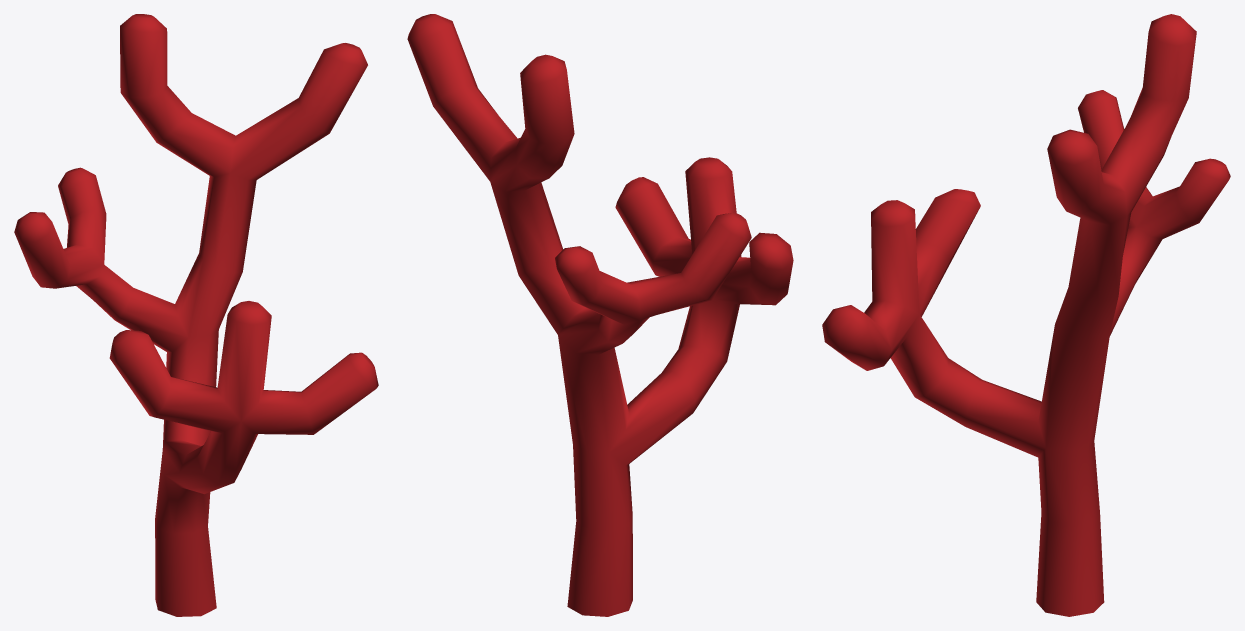
The model's file is Sea_plant_1_3.fbx.
3 renders of one model, left to right at view 1: azimuth 30°, elevation 25°; view 2: azimuth 150°, elevation 25°; view 3: azimuth 270°, elevation 25°, orthographic. The views are drawn at different scales.
Visible parts, largest first — view 1: Sea_plant_1_3; view 2: Sea_plant_1_3; view 3: Sea_plant_1_3.
Part boxes in pixels (x1=…): Sea_plant_1_3: x1=14, y1=14, x2=378, y2=616; Sea_plant_1_3: x1=407, y1=14, x2=793, y2=616; Sea_plant_1_3: x1=822, y1=14, x2=1230, y2=616.
Bounding box in the file's own units: 0.701 × 1.11 × 0.6982.
